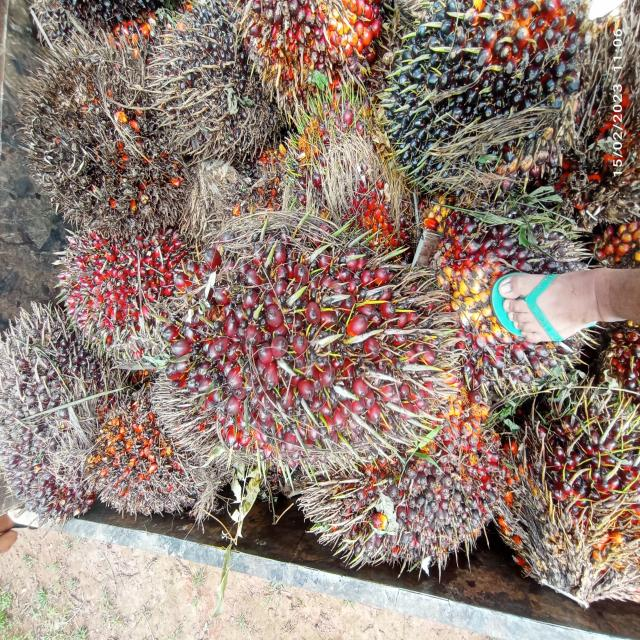fraksi 00: (386, 0, 594, 187), (0, 291, 118, 549), (158, 2, 278, 177)
fraksi 1: (137, 213, 449, 470), (308, 367, 498, 600), (502, 392, 640, 610)
fraksi 3: (45, 210, 215, 368), (290, 86, 430, 255), (242, 0, 388, 101)
fraksi 4: (28, 35, 189, 242), (64, 393, 208, 518)
